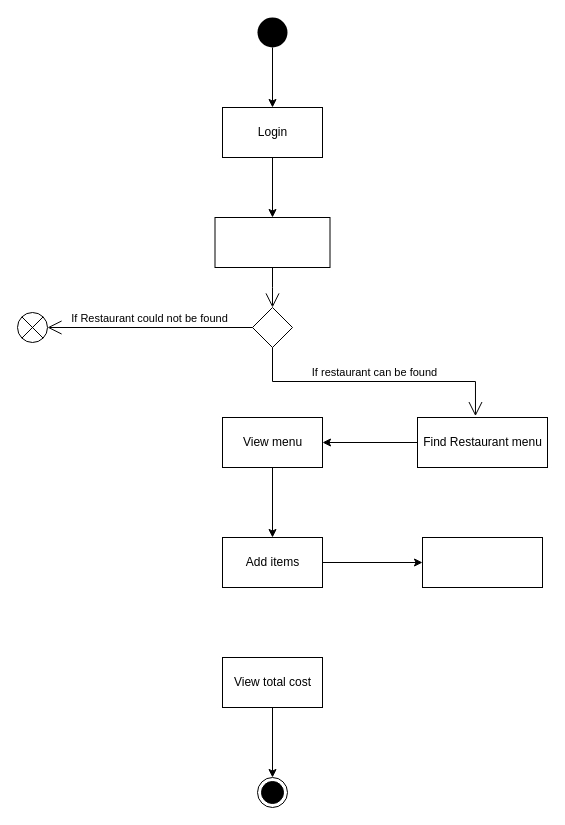
Image size: 565x825. Some labels were removed from this diagram. The box of each missing label's shape, as (x1, y1, x2, y2) in pixels:
Calculate total cost: (422, 536, 542, 588)
Search Restaurant: (214, 216, 330, 268)
